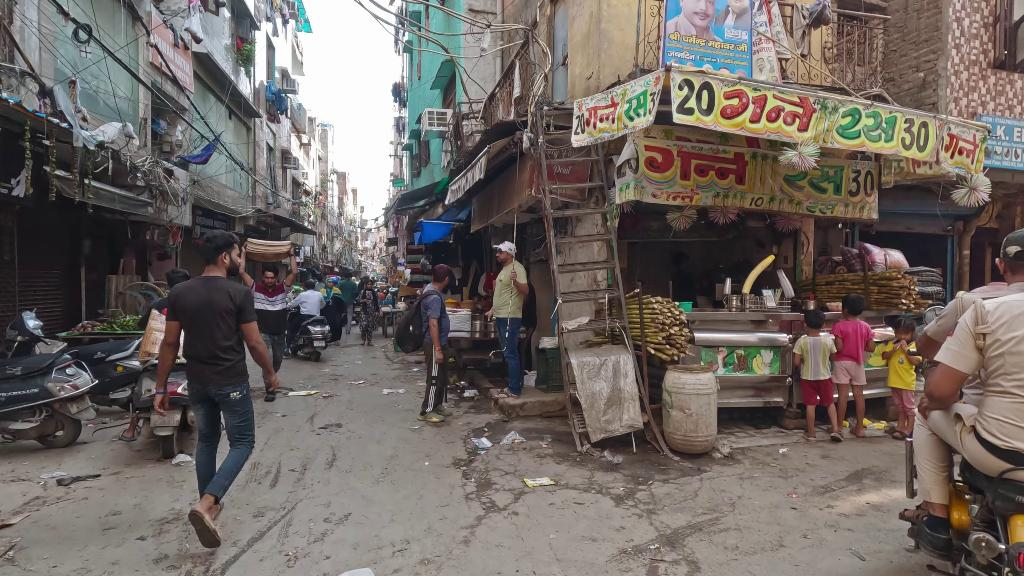garbage: (471, 431, 499, 459), (281, 383, 324, 399), (519, 473, 557, 491), (165, 449, 193, 473), (500, 424, 526, 449), (383, 379, 405, 402), (347, 380, 371, 389)
